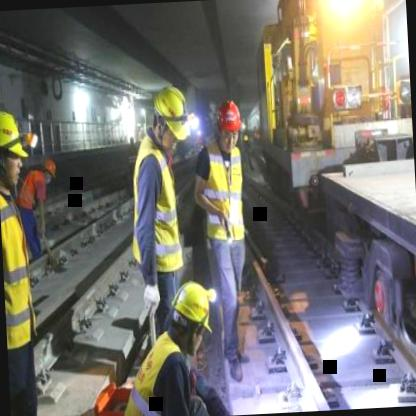helmet: (168, 281, 218, 356), (147, 82, 194, 154), (0, 104, 27, 188), (214, 97, 244, 153), (41, 152, 57, 182)
